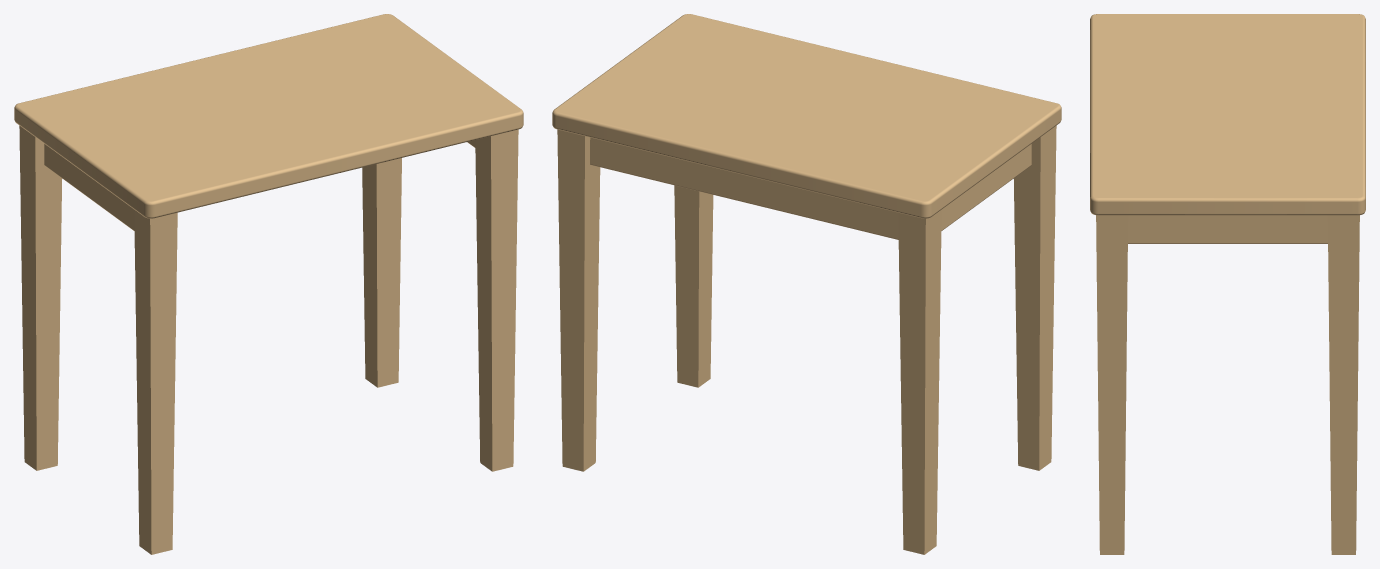
File: desk_wood__w080.glb
3 views of the same model, side by side, from view 1: azimuth 30°, elevation 25°; view 2: azimuth 150°, elevation 25°; view 3: azimuth 270°, elevation 25° (orthographic).
Visible parts, largest first — view 1: desk_wood__w080; view 2: desk_wood__w080; view 3: desk_wood__w080.
Boxes of the visible parts, box(x1,y1,x2,y2) form: desk_wood__w080: box(14, 14, 523, 554); desk_wood__w080: box(552, 14, 1061, 554); desk_wood__w080: box(1090, 14, 1365, 554).
Bounding box in the file's own units: 0.8 × 0.72 × 0.5.
